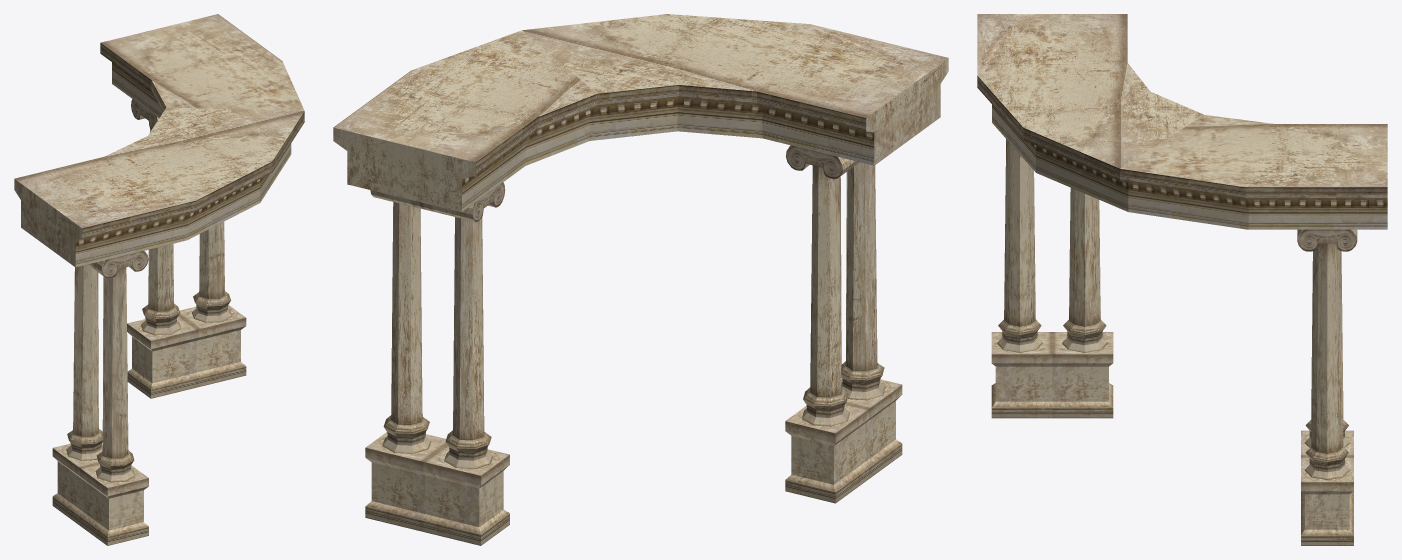
The model's file is svpergola7.dae.
3 renders of one model, left to right at view 1: azimuth 30°, elevation 25°; view 2: azimuth 150°, elevation 25°; view 3: azimuth 270°, elevation 25°, orthographic. The views are drawn at different scales.
Parts seen in each view (by area): view 1: cylinder19_copy17-0; view 2: cylinder19_copy17-0; view 3: cylinder19_copy17-0.
Boxes of the visible parts, left/top/right/bottom form: cylinder19_copy17-0: left=14, top=14, right=304, bottom=545; cylinder19_copy17-0: left=333, top=14, right=948, bottom=545; cylinder19_copy17-0: left=977, top=14, right=1387, bottom=545.
Bounding box in the file's own units: 612 × 600 × 612.
